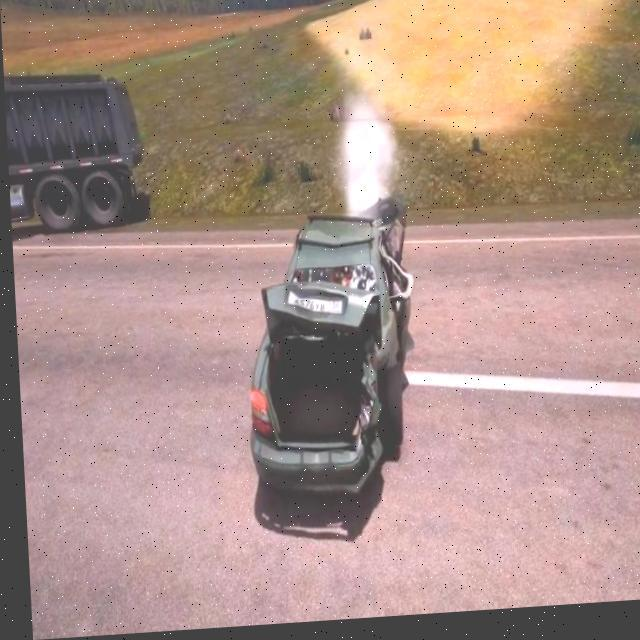multiple_accident: (10, 78, 475, 525)
